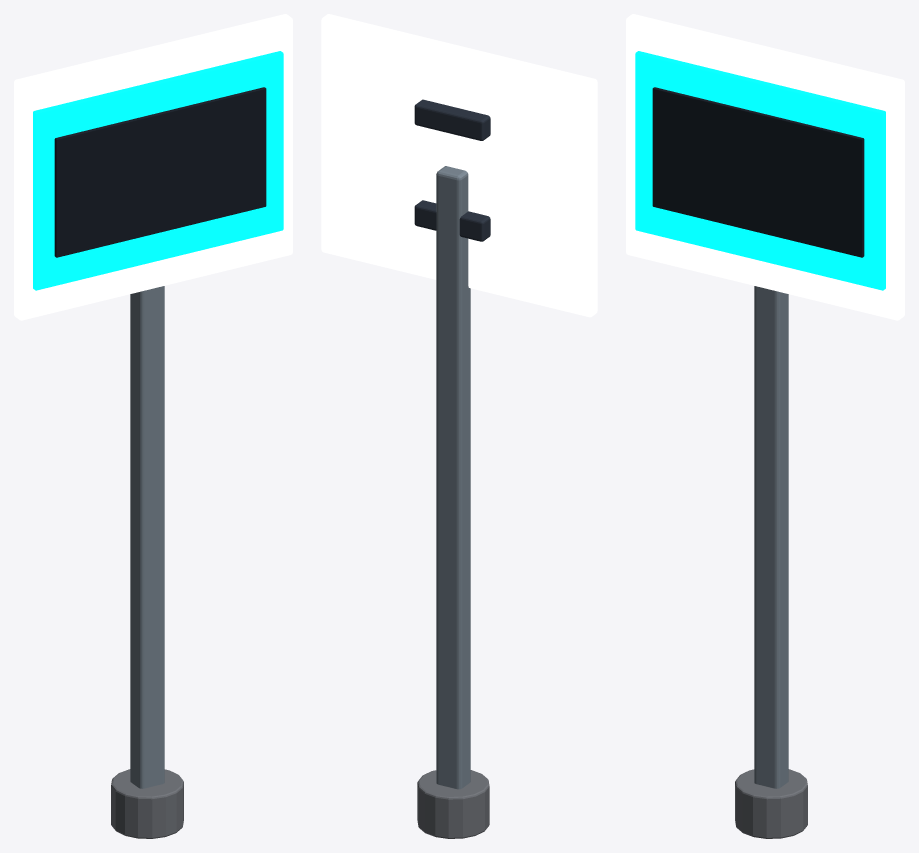
Rendered from prop_wayfinding_sign_digital_a_v01.glb.
3 views of the same model, side by side, from view 1: azimuth 30°, elevation 25°; view 2: azimuth 150°, elevation 25°; view 3: azimuth 330°, elevation 25° (orthographic).
Visible parts, largest first — view 1: component__border_or_lettering__inner_panel, component__sign_face__sign_face, component__border_or_lettering__border, component__support_post__support_post, component__support_post__footing; view 2: component__sign_face__sign_face, component__support_post__support_post, component__support_post__footing, component__mounting_brackets__mounting_bracket, component__mounting_brackets__mounting_bracket.001; view 3: component__border_or_lettering__inner_panel, component__sign_face__sign_face, component__border_or_lettering__border, component__support_post__support_post, component__support_post__footing.
Part boxes in pixels (bbox=[...]): component__border_or_lettering__inner_panel: bbox=[54, 87, 266, 257]; component__sign_face__sign_face: bbox=[14, 14, 292, 320]; component__border_or_lettering__border: bbox=[33, 51, 283, 290]; component__support_post__support_post: bbox=[130, 286, 164, 788]; component__support_post__footing: bbox=[111, 769, 183, 838]; component__sign_face__sign_face: bbox=[321, 14, 597, 317]; component__support_post__support_post: bbox=[436, 166, 470, 789]; component__support_post__footing: bbox=[417, 770, 489, 838]; component__mounting_brackets__mounting_bracket: bbox=[414, 99, 490, 140]; component__mounting_brackets__mounting_bracket.001: bbox=[414, 200, 490, 241]; component__border_or_lettering__inner_panel: bbox=[652, 87, 864, 257]; component__sign_face__sign_face: bbox=[626, 14, 904, 320]; component__border_or_lettering__border: bbox=[635, 51, 885, 290]; component__support_post__support_post: bbox=[754, 286, 788, 788]; component__support_post__footing: bbox=[735, 769, 807, 838].
Bounding box in the file's own units: 0.946 × 2.58 × 0.22.
